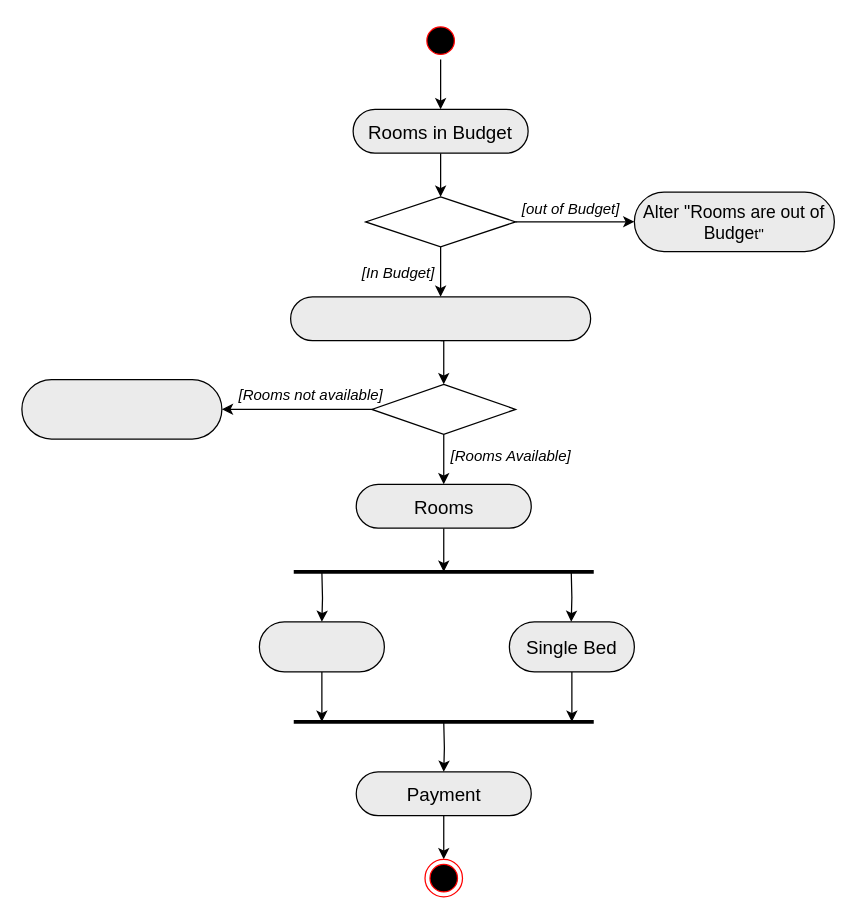
This 856x919 diagram has some shape labels left out. Here are the shapes that lost their labels. From the top down, the centre of each, then its label:
point (440, 318): Check Rooms Available
point (121, 408): Alter "Rooms are not available "
point (321, 646): Double Bed
